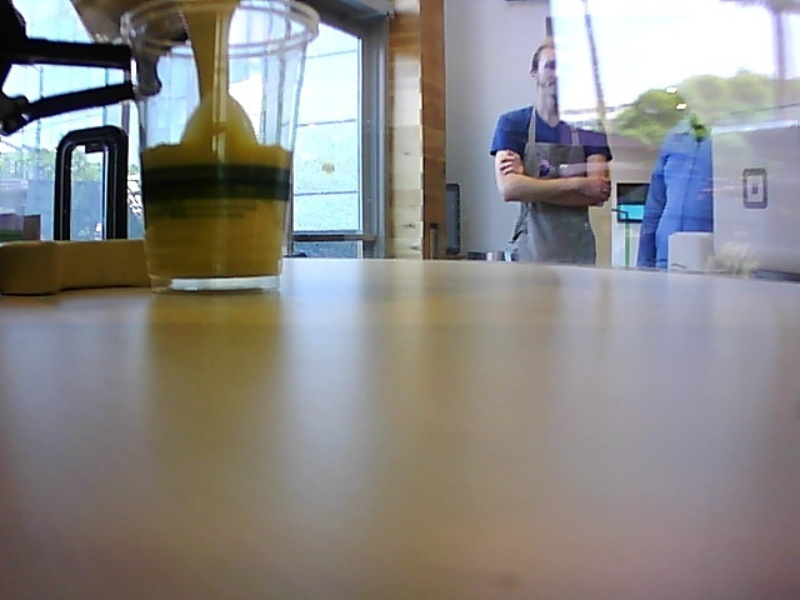cup: (113, 1, 321, 297)
limit: (139, 134, 295, 161)
